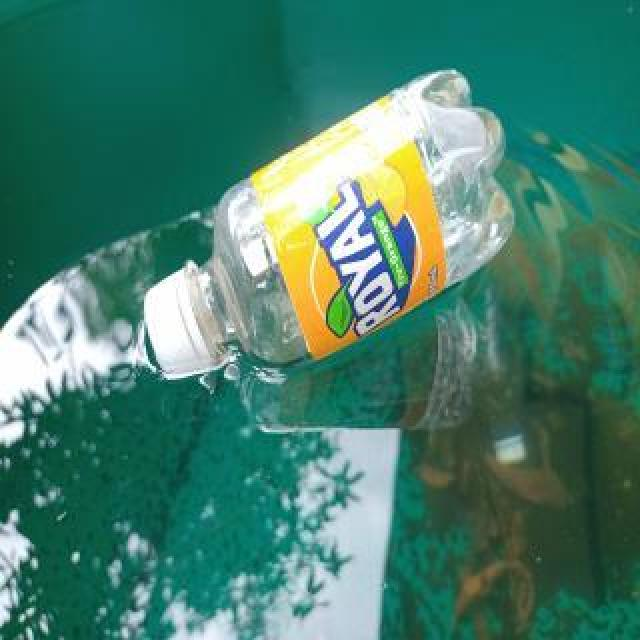bottle: (139, 58, 519, 388)
